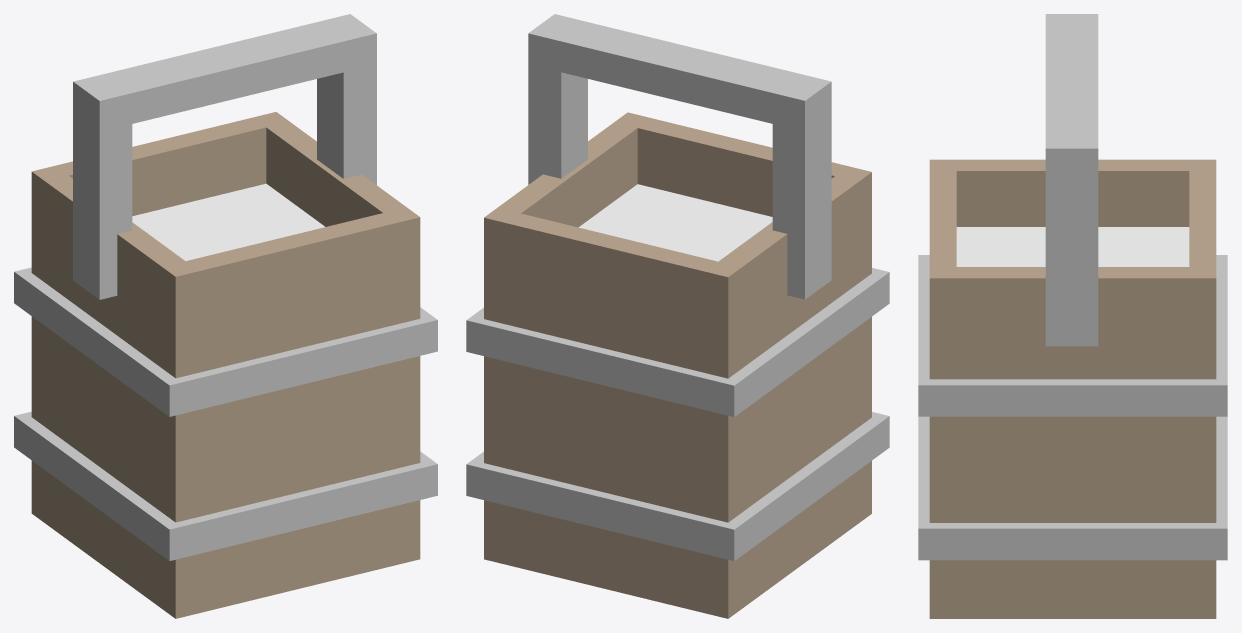
File: bucket of milk.fbx
3 views of the same model, side by side, from view 1: azimuth 30°, elevation 25°; view 2: azimuth 150°, elevation 25°; view 3: azimuth 270°, elevation 25° (orthographic).
Visible parts, largest first — view 1: zdq_5; view 2: zdq_5; view 3: zdq_5.
Boxes of the visible parts, x1,y1,x2,y2 form: zdq_5: [14, 14, 437, 618]; zdq_5: [466, 14, 889, 618]; zdq_5: [918, 14, 1227, 618].
Bounding box in the file's own units: 147 × 244 × 143.
